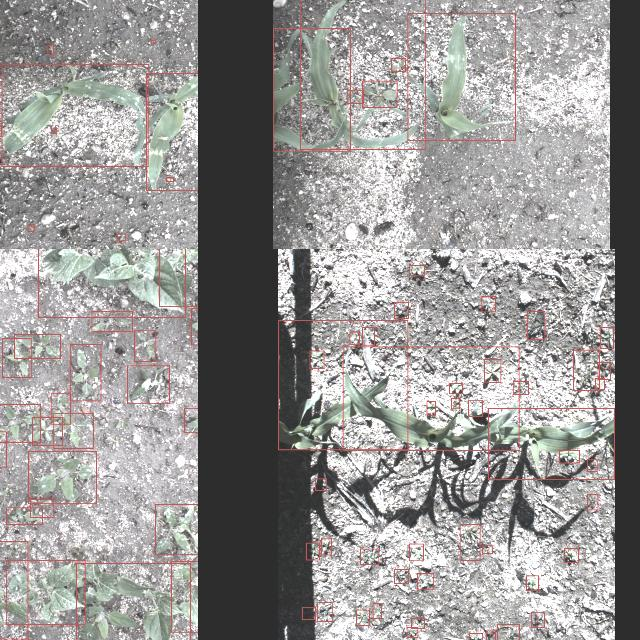crop: (299, 0, 424, 150), (342, 346, 520, 449), (278, 320, 408, 450), (2, 64, 148, 166), (407, 14, 515, 140), (38, 249, 186, 317), (272, 28, 350, 152), (489, 408, 615, 479), (77, 563, 191, 640), (146, 73, 198, 190), (5, 560, 84, 624), (0, 541, 28, 639), (159, 249, 198, 305), (171, 561, 198, 632)
weed: (28, 452, 96, 504), (155, 505, 198, 555), (70, 345, 100, 401), (0, 404, 40, 442), (127, 366, 169, 402), (54, 414, 94, 448), (2, 338, 32, 378), (14, 334, 60, 358), (574, 350, 600, 390), (362, 81, 396, 107), (32, 417, 62, 445), (91, 312, 132, 332), (460, 524, 480, 560), (134, 331, 156, 361), (51, 392, 71, 423), (6, 508, 42, 524), (527, 311, 545, 339), (30, 499, 54, 517), (485, 360, 501, 382), (498, 624, 520, 640), (185, 407, 198, 432), (316, 602, 332, 622), (359, 549, 378, 565), (600, 328, 614, 348), (346, 90, 364, 104), (191, 309, 198, 345), (598, 362, 612, 380), (309, 351, 323, 369), (416, 574, 434, 588), (559, 450, 579, 462), (481, 296, 495, 312), (394, 303, 408, 319), (468, 400, 482, 416), (409, 544, 423, 560), (0, 432, 6, 468), (362, 327, 374, 345), (306, 542, 318, 560), (356, 610, 369, 626), (391, 58, 405, 72), (514, 381, 528, 395), (565, 548, 579, 562), (394, 569, 408, 583), (532, 612, 544, 628), (526, 576, 538, 590), (588, 494, 598, 510), (321, 538, 331, 554), (302, 607, 314, 619), (314, 479, 326, 491), (410, 266, 424, 276), (426, 401, 436, 415), (372, 604, 382, 618), (450, 384, 462, 394), (349, 332, 359, 344), (412, 618, 424, 628), (587, 460, 597, 472), (407, 627, 418, 637), (450, 398, 460, 408), (469, 633, 483, 640), (596, 378, 604, 389), (486, 631, 495, 640), (483, 546, 493, 554), (47, 44, 53, 56), (116, 233, 125, 240), (28, 224, 34, 232), (166, 177, 174, 181), (52, 128, 56, 134), (151, 40, 155, 44)
